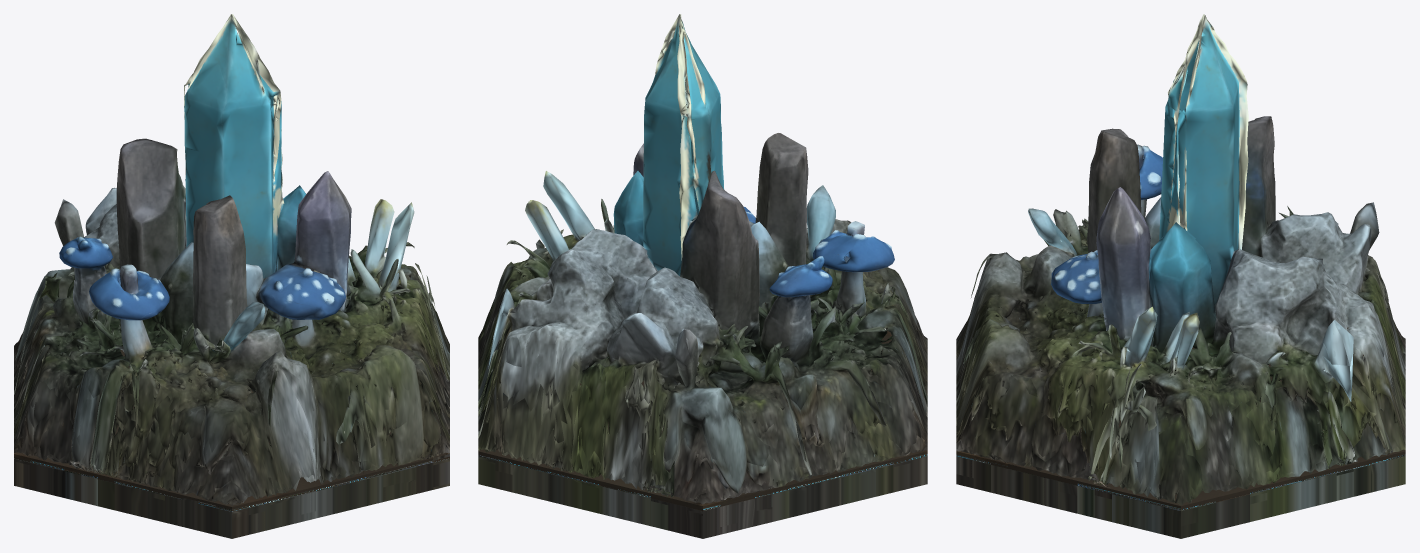
The model's file is hex_crystal_grove.glb.
3 renders of one model, left to right at view 1: azimuth 30°, elevation 25°; view 2: azimuth 150°, elevation 25°; view 3: azimuth 270°, elevation 25°, orthographic. The views are drawn at different scales.
Parts seen in each view (by area): view 1: hex_crystal_grove_s7_fit; view 2: hex_crystal_grove_s7_fit; view 3: hex_crystal_grove_s7_fit.
Boxes of the visible parts, <box> form: hex_crystal_grove_s7_fit: <box>14,14,449,538</box>; hex_crystal_grove_s7_fit: <box>478,14,927,538</box>; hex_crystal_grove_s7_fit: <box>956,14,1405,538</box>.
Bounding box in the file's own units: 5.11 × 4.56 × 4.42.
Materials: 1 (1 with a texture image).
